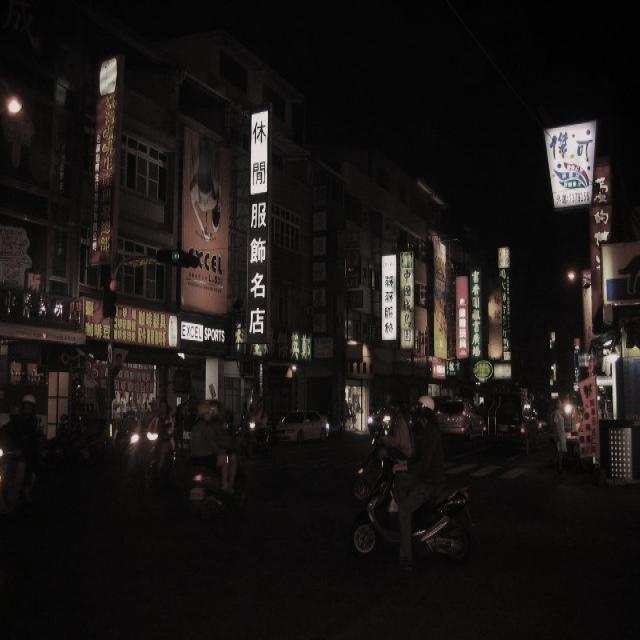Motorbike: (351, 452, 470, 568), (182, 427, 249, 525)
